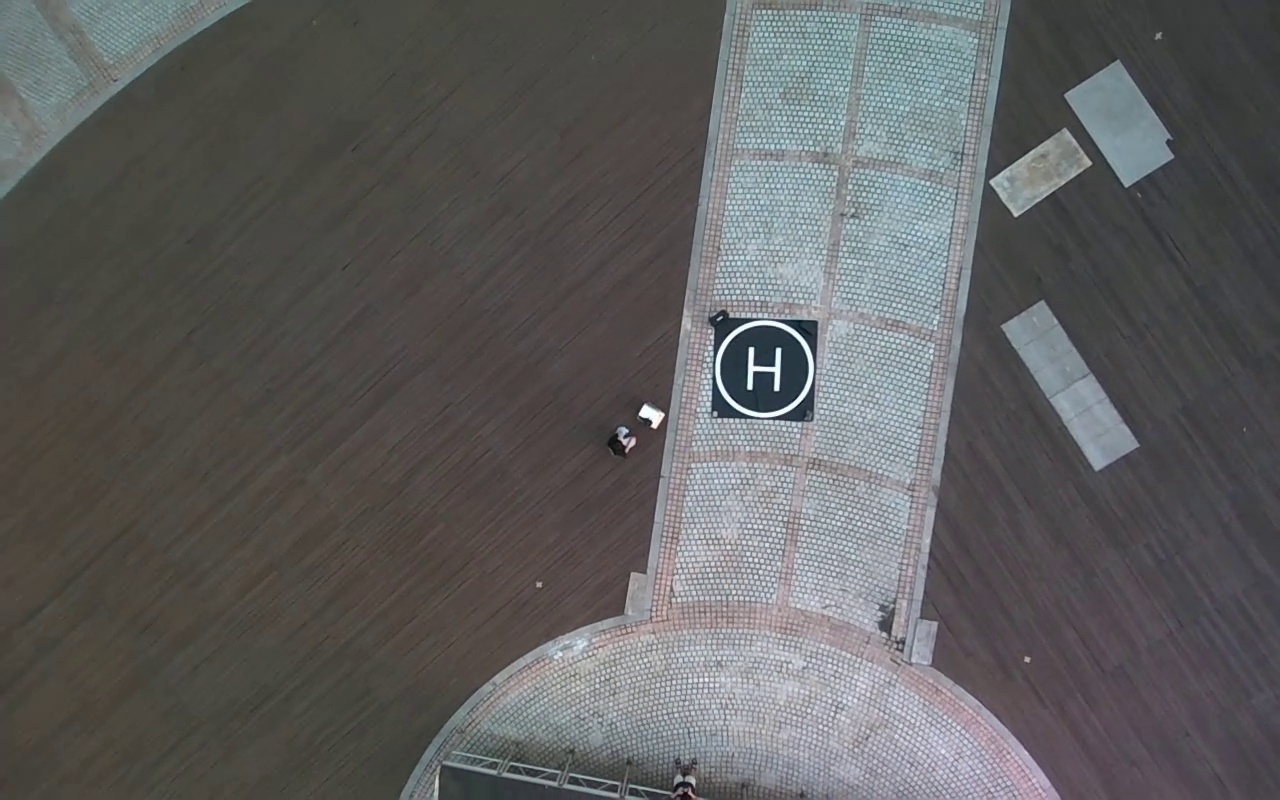H: (745, 345, 782, 393)
heliport: (715, 319, 815, 417)
